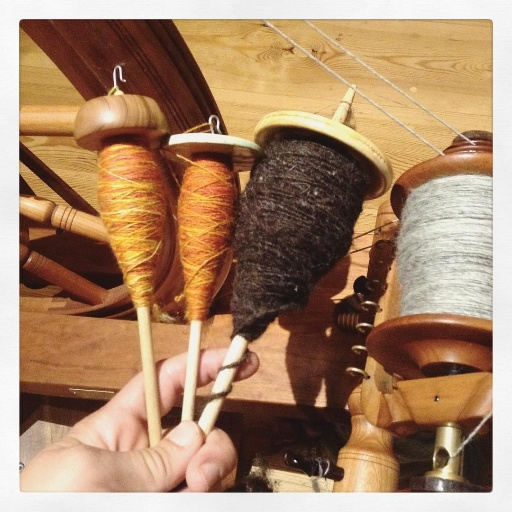hand: (38, 368, 247, 495)
